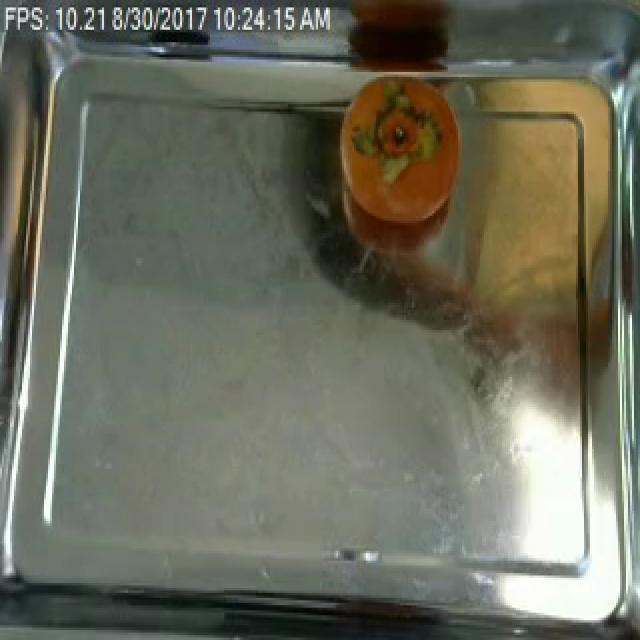Fruit: (450, 104, 590, 444), (334, 80, 458, 234)
